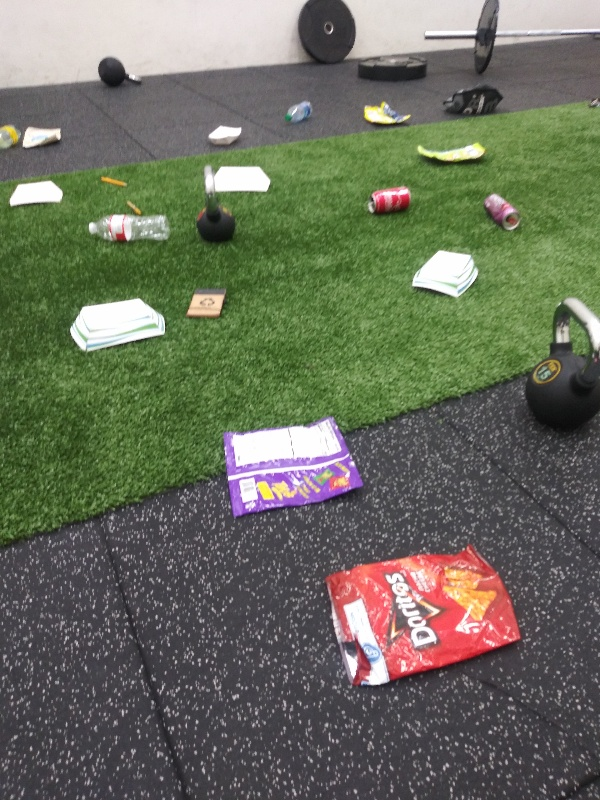bag: (323, 542, 524, 691), (220, 415, 367, 521), (415, 140, 490, 167), (362, 98, 415, 128), (21, 124, 67, 150)
bottle: (86, 211, 175, 248), (281, 97, 321, 126), (1, 120, 23, 155)
can: (478, 188, 522, 238), (365, 182, 415, 216)
plate: (65, 295, 167, 354), (409, 249, 482, 302), (7, 178, 67, 211), (215, 163, 276, 193), (205, 122, 247, 149)
